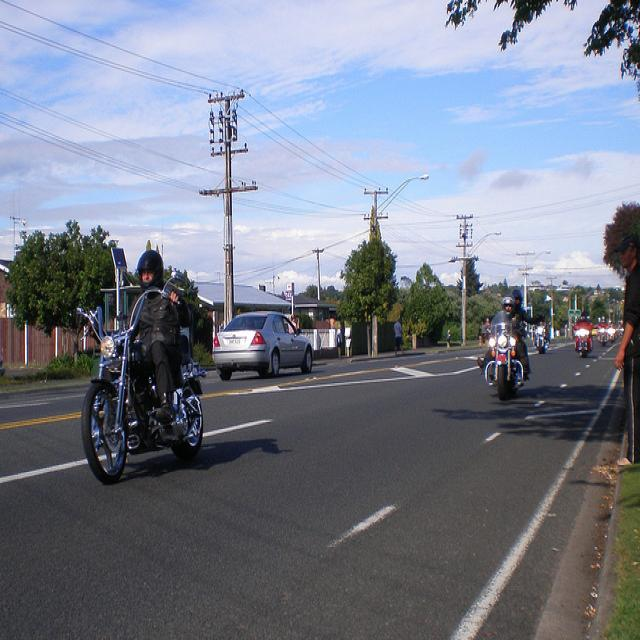motor: (80, 267, 206, 489), (484, 321, 525, 401), (573, 322, 595, 358), (535, 331, 549, 354), (598, 327, 608, 346), (606, 325, 616, 342), (590, 339, 594, 351)
